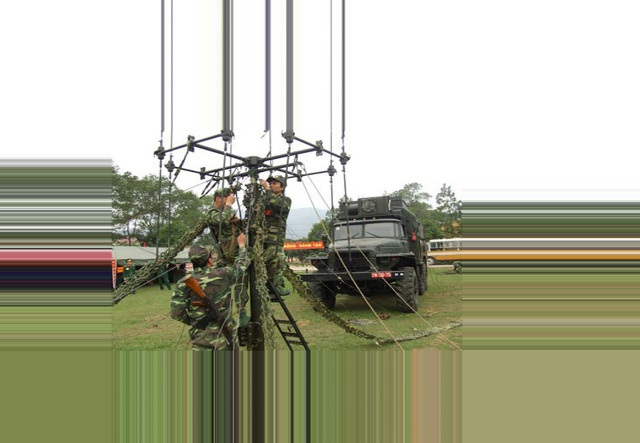plate: (371, 269, 392, 277)
